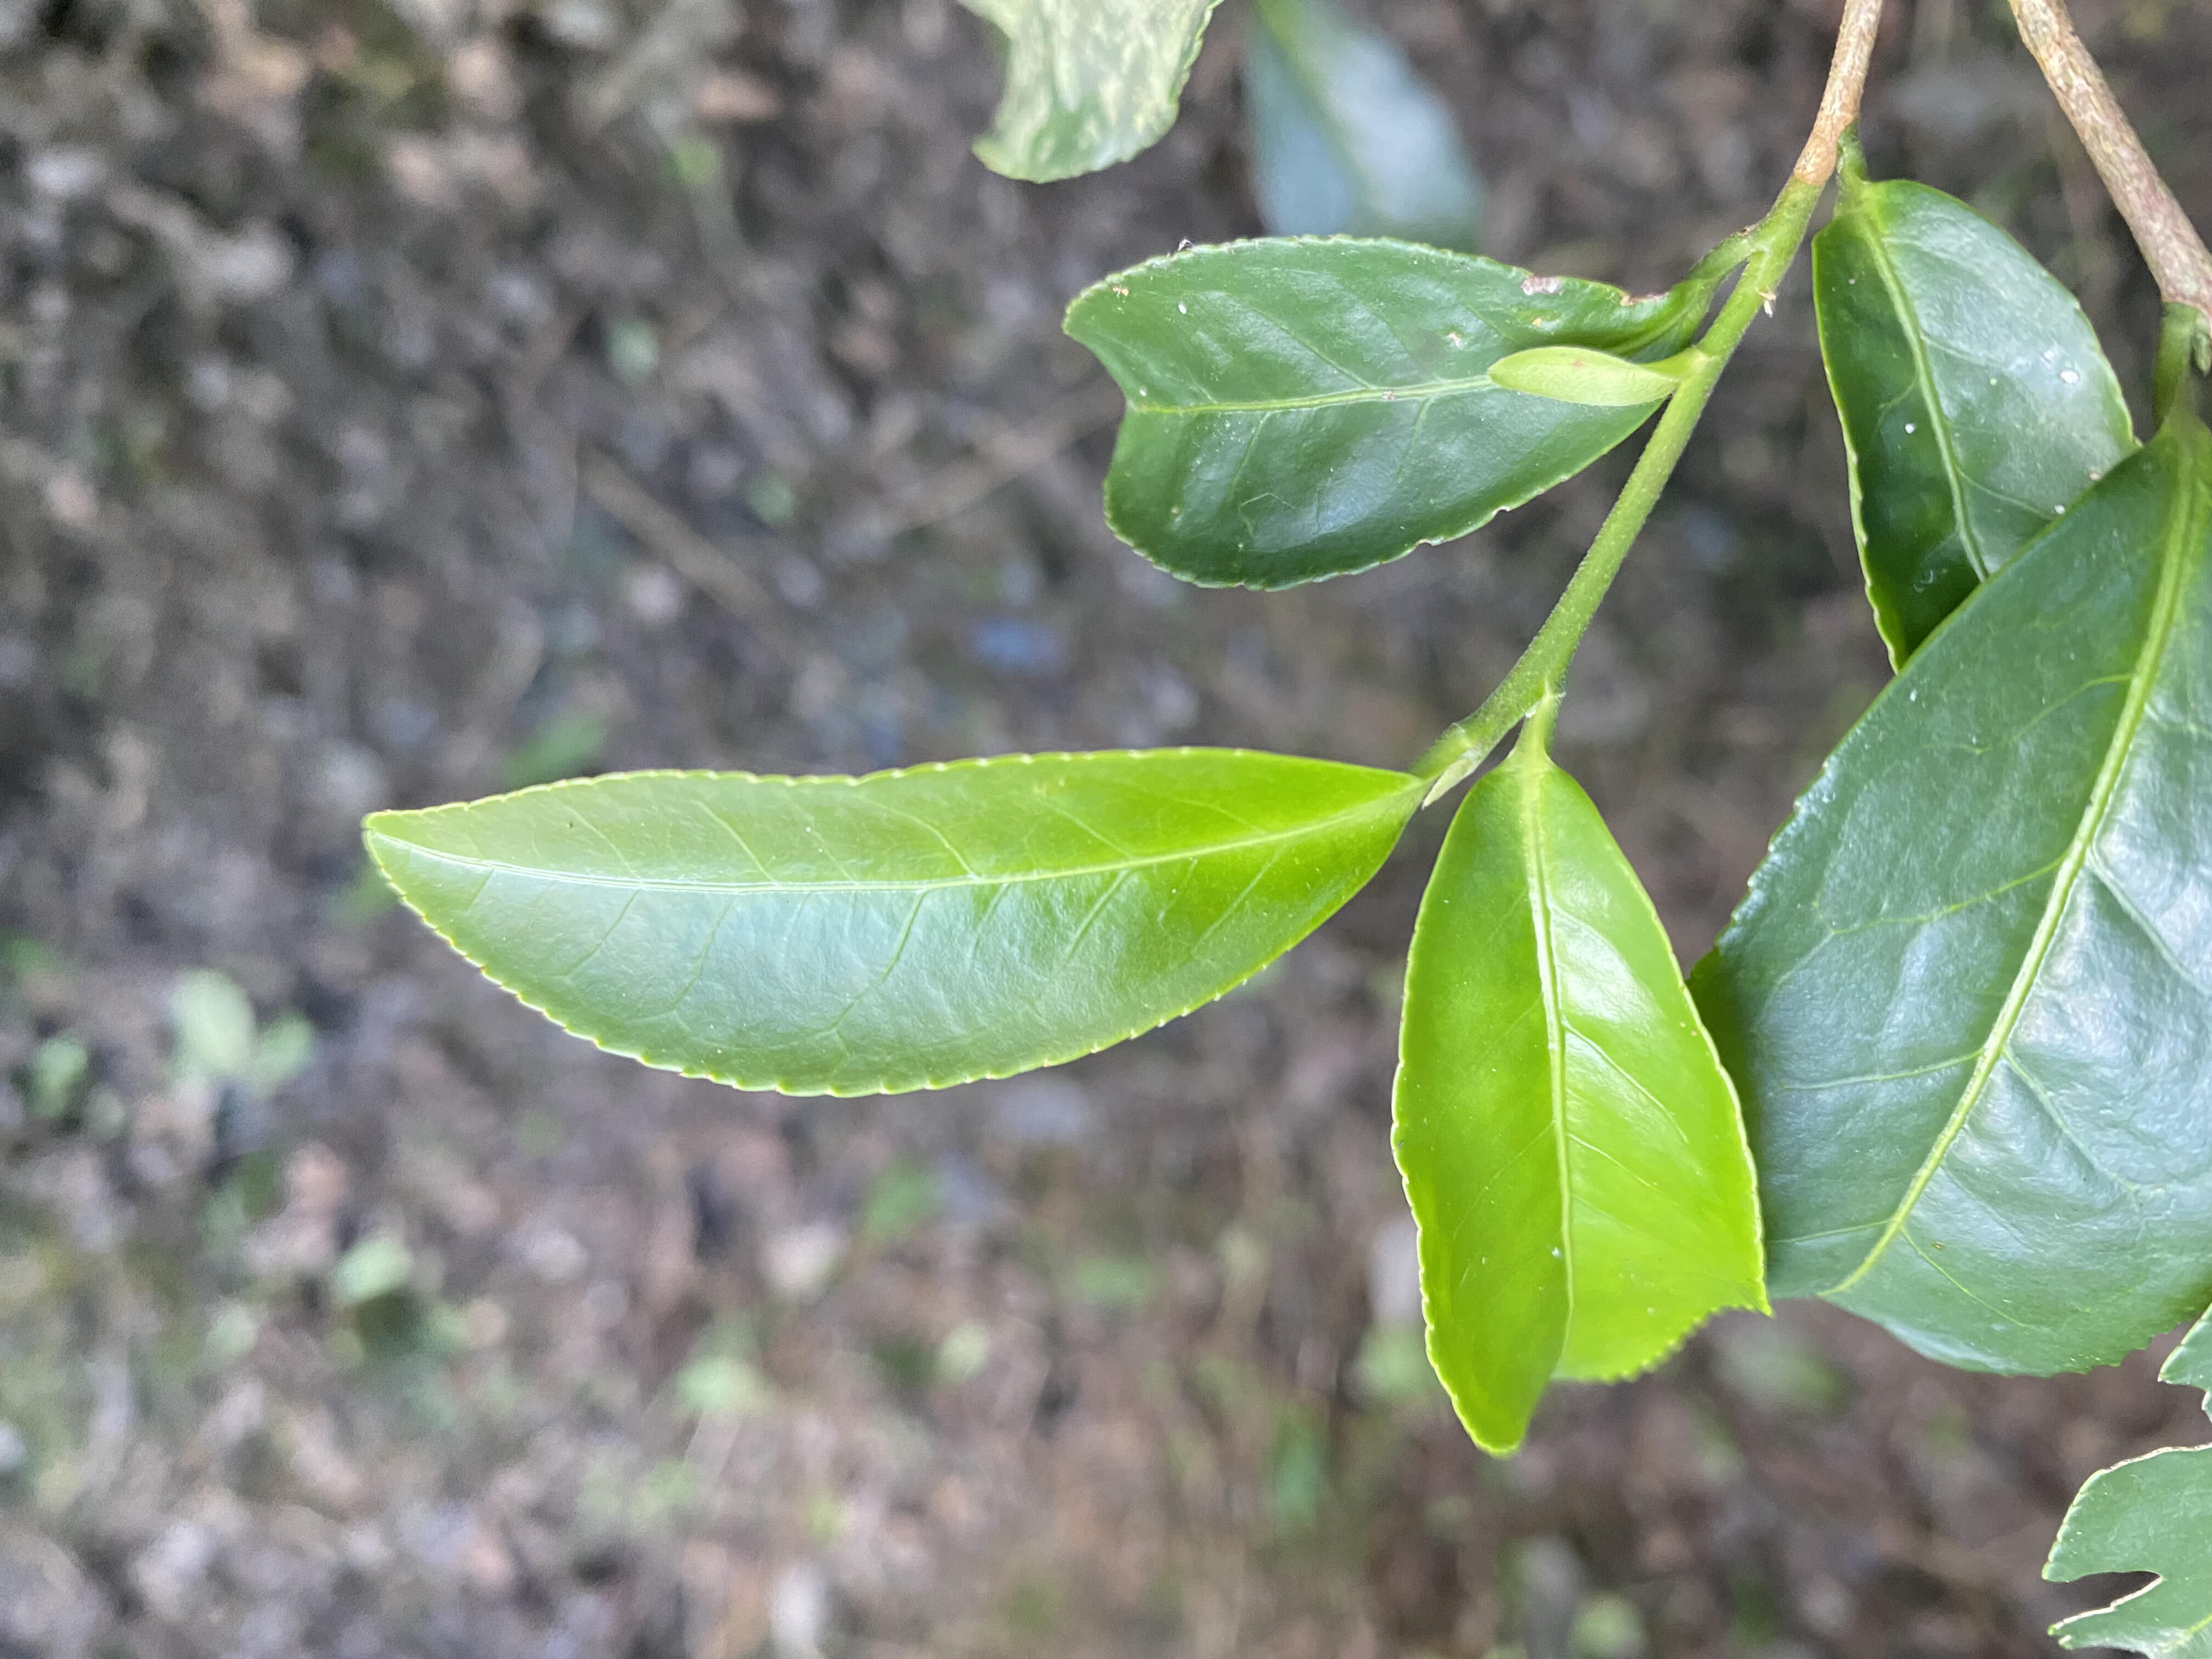chihuo_high: (1386, 755, 1771, 1462), (2040, 1291, 2209, 1656)
healthy: (1683, 411, 2209, 1377), (355, 739, 1418, 1103)
tanju_low: (1061, 227, 1714, 598)
